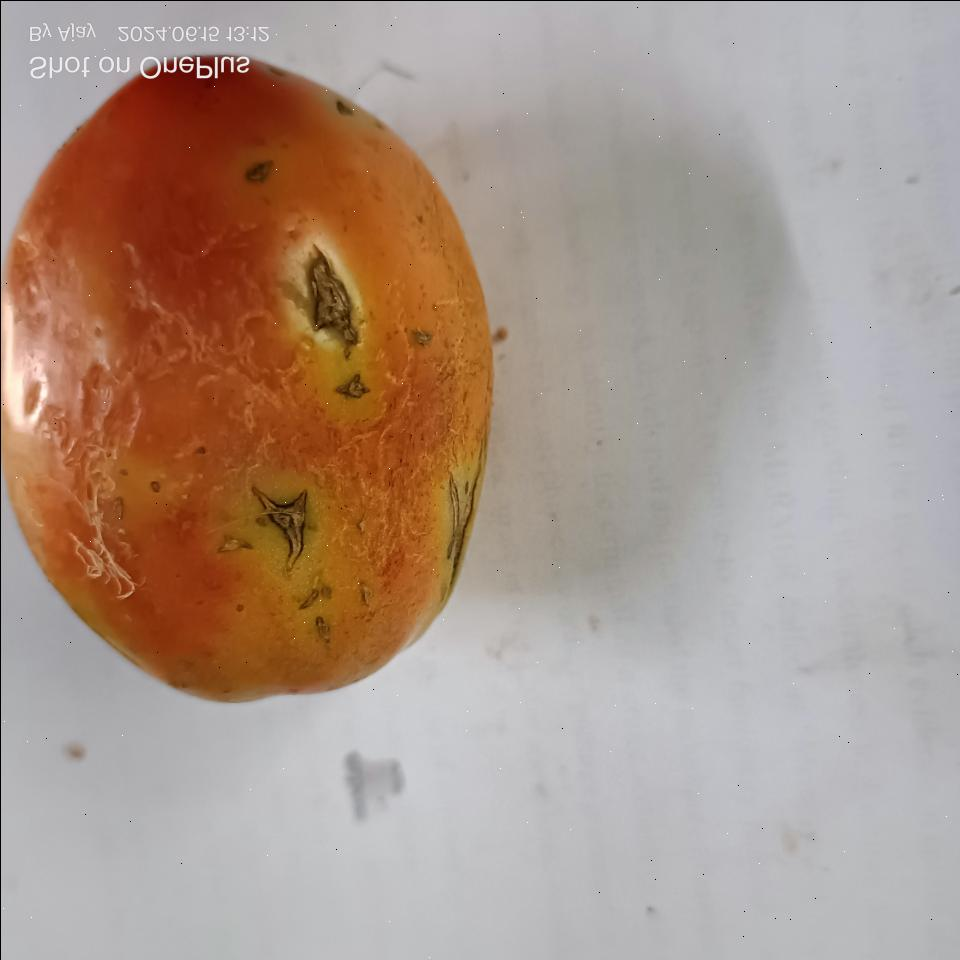Bacterial_Spot: (302, 252, 374, 404), (250, 473, 316, 561), (294, 579, 338, 663), (238, 153, 270, 186)
